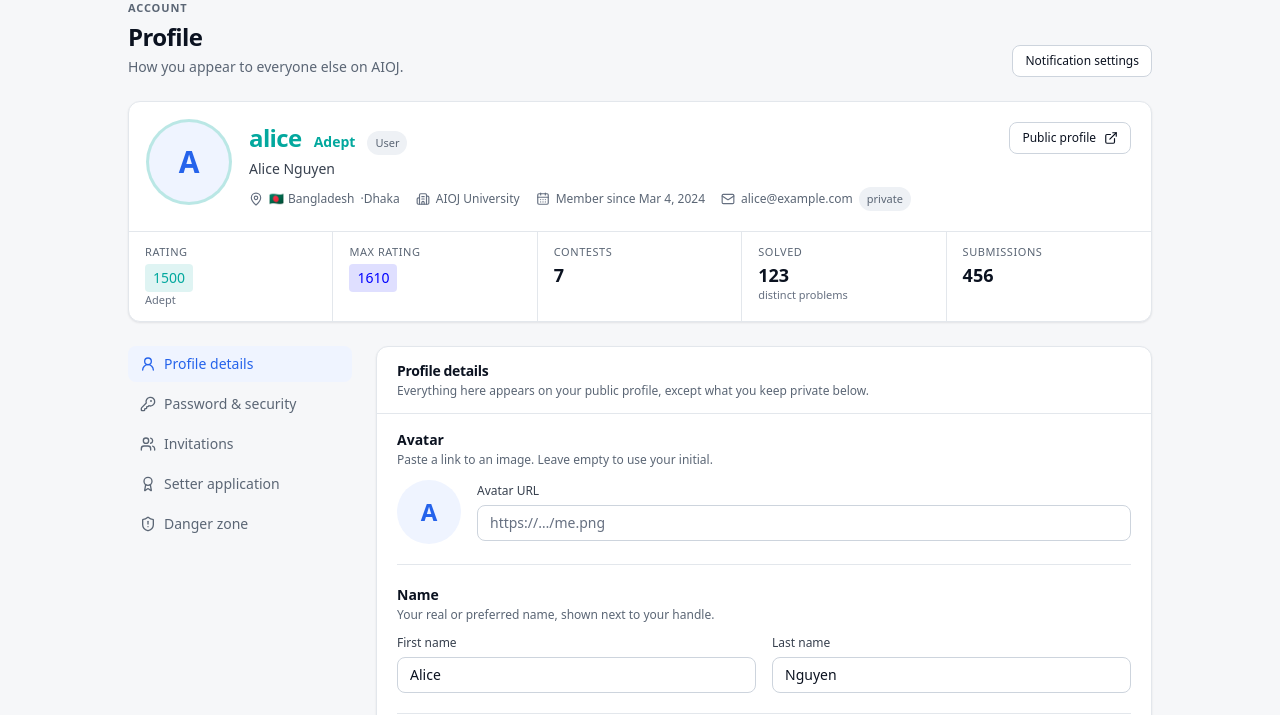
Test: save stays disabled until something changes, then discards cleanly
The width and height of the screenshot is (1280, 715).
Replace the text in the field labelled "First name" with "Alicia" at (576, 674), box 397,656 -> 756,692
(page scrolled)
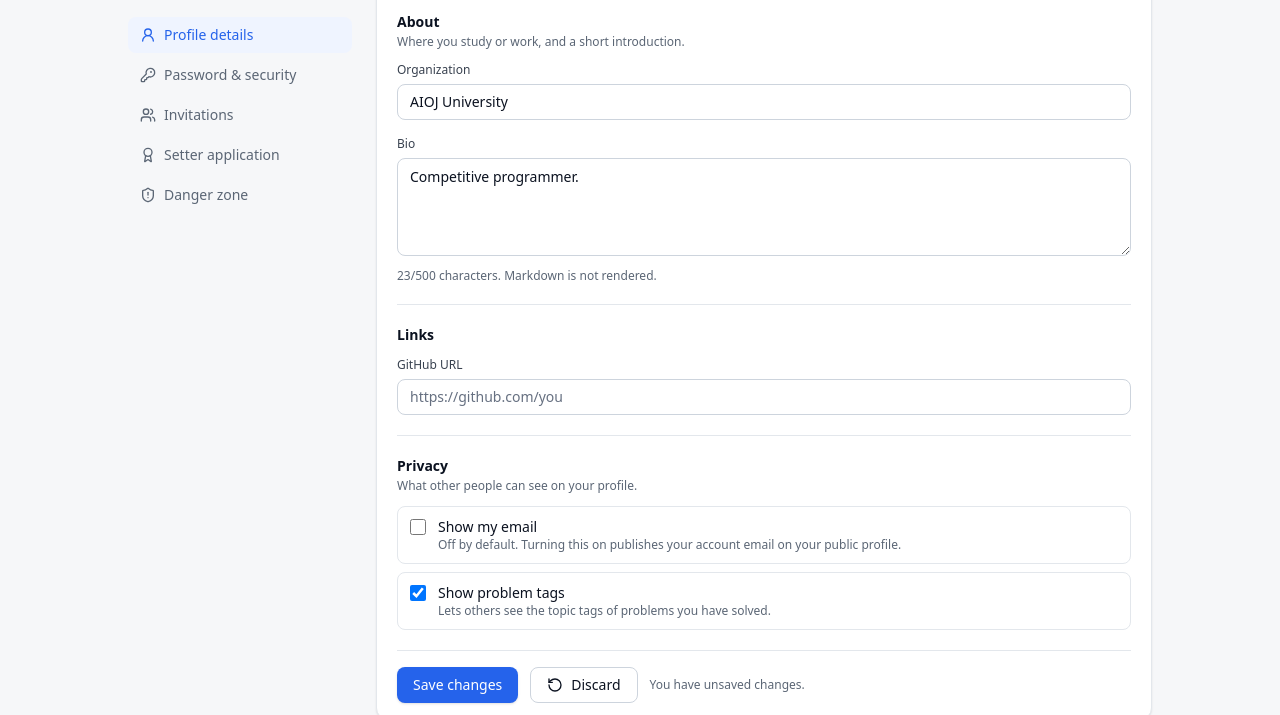
Result: the button "Save changes" is enabled at 397,666 -> 518,702
Result: the text "You have unsaved changes." is shown at 650,676 -> 805,692
Click the button "Discard" at (584, 684), box 530,666 -> 638,702
(page scrolled)
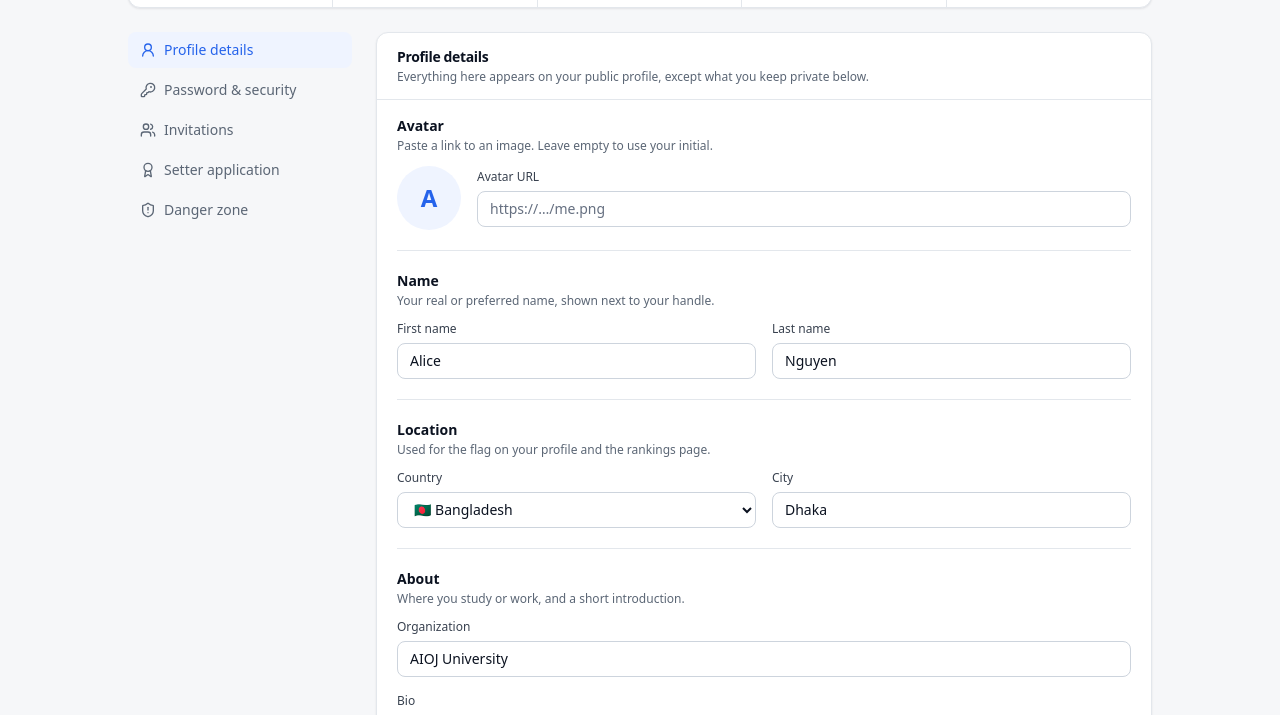
Result: the field labelled "First name" holds "Alice" at 397,342 -> 756,378
